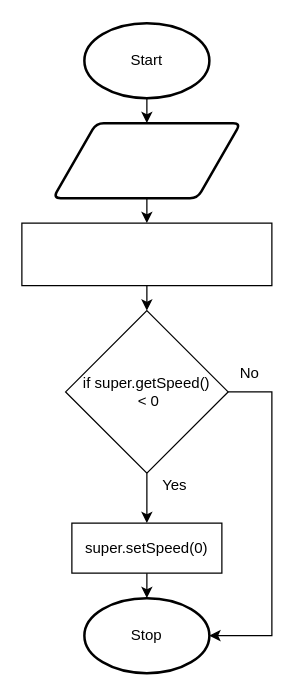
Some shapes in this 304 by 695 pixel diagram are drawn without their labels. The box of each missing label's shape, as (x1, y1, x2, y2) in pixels:
get airProvided: (51, 121, 241, 199)
super.setSpeed(super.getSpeed() - airProvided / 2): (21, 222, 272, 286)
